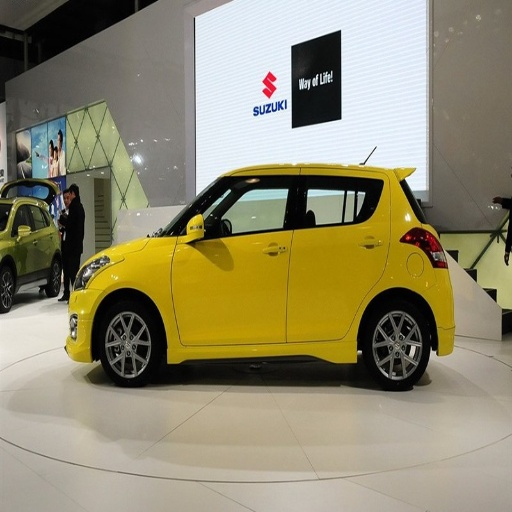back_left_door: (287, 169, 383, 340)
front_left_door: (172, 168, 298, 344)
